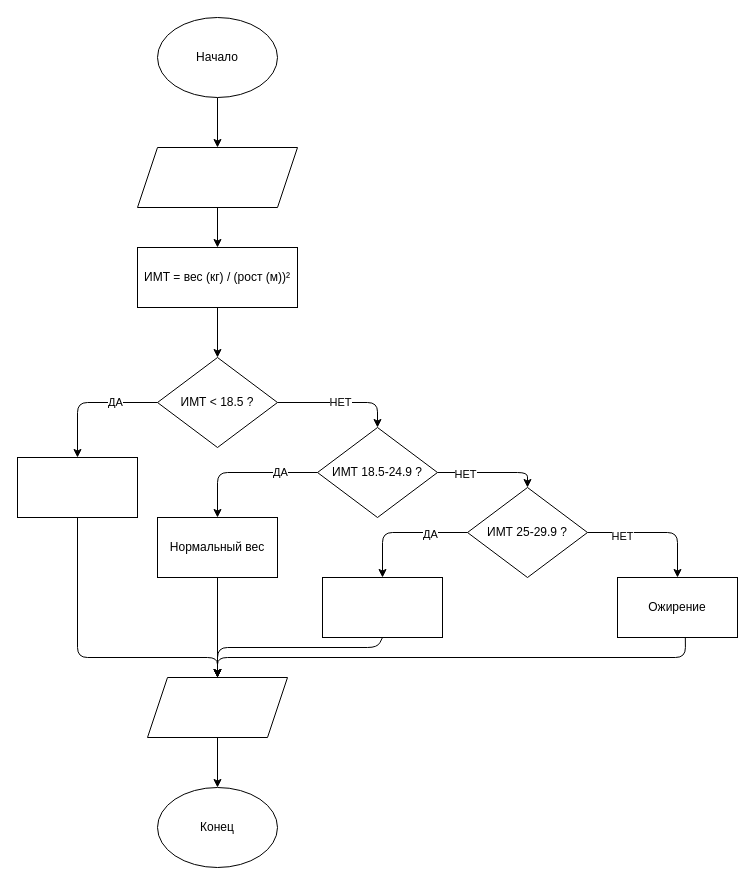
This 755x885 diagram has some shape labels left out. The centre of each missing label's shape, as x and y in pixels:
Ввод данных: рост и вес: the point at 217,177
Вывод результата: the point at 217,707
Избыточный вес: the point at 382,607
Недостаточный вес: the point at 77,487
